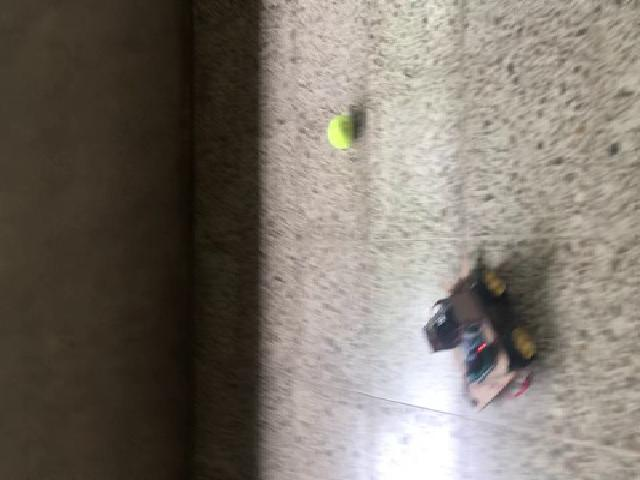Ball: (326, 116, 357, 148)
Robot: (421, 248, 538, 414)
